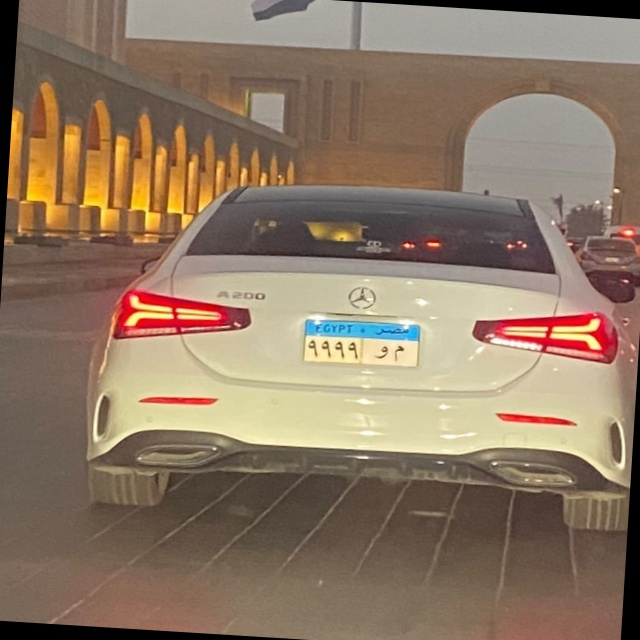License Plate: (301, 317, 422, 369)
